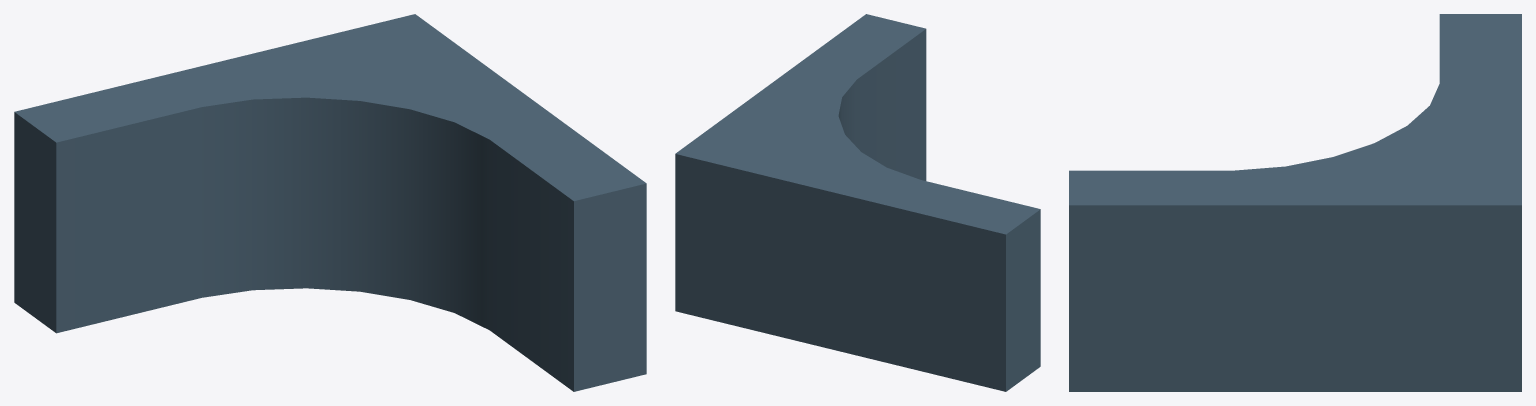
The model's file is W1_WallCorner_Round1B_Top.fbx.
The picture shows the model from 3 angles, left to right: view 1: azimuth 30°, elevation 25°; view 2: azimuth 150°, elevation 25°; view 3: azimuth 270°, elevation 25°; orthographic projection. The views are drawn at different scales.
Visible parts, largest first — view 1: W1_WallCorner_Round1B_Top.001; view 2: W1_WallCorner_Round1B_Top.001; view 3: W1_WallCorner_Round1B_Top.001.
Boxes of the visible parts, box(x1,y1,x2,y2) form: W1_WallCorner_Round1B_Top.001: box(14, 14, 646, 391); W1_WallCorner_Round1B_Top.001: box(675, 14, 1040, 391); W1_WallCorner_Round1B_Top.001: box(1069, 14, 1521, 391).
Bounding box in the file's own units: 1.1 × 0.5 × 1.1.
